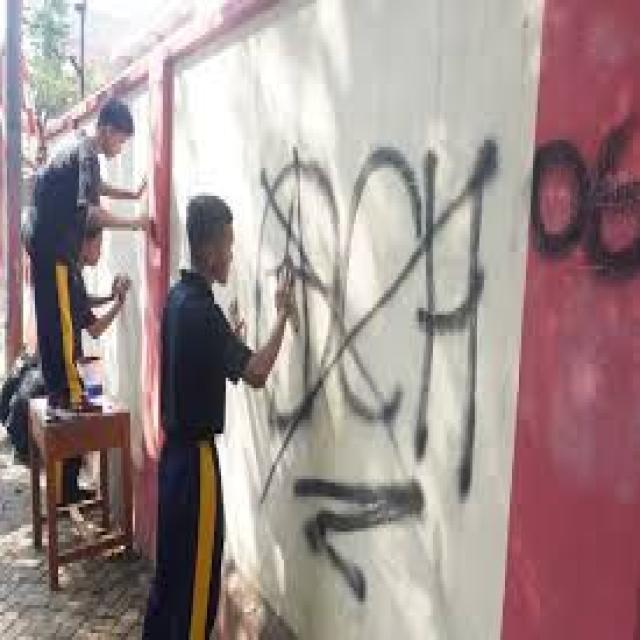-: (257, 138, 497, 601), (528, 111, 640, 276)
